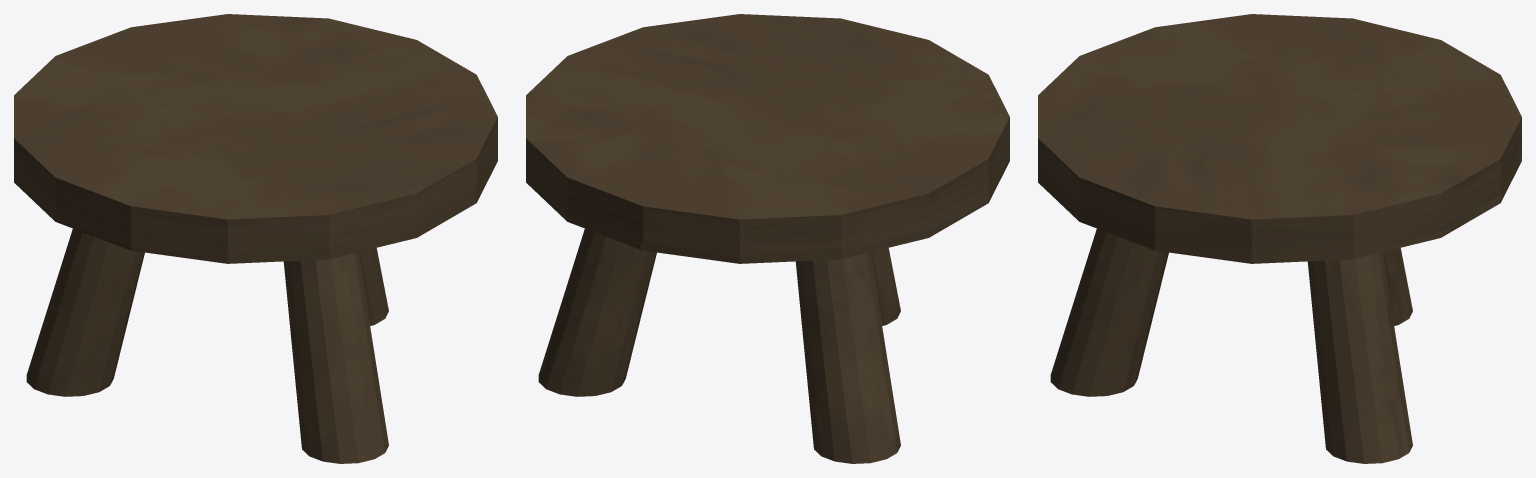
The model's file is stool.gltf.
3 views of the same model, side by side, from view 1: azimuth 30°, elevation 25°; view 2: azimuth 150°, elevation 25°; view 3: azimuth 270°, elevation 25° (orthographic).
Parts seen in each view (by area): view 1: stool; view 2: stool; view 3: stool.
Part boxes in pixels (<box>): stool: <box>14,14,497,463</box>; stool: <box>526,14,1009,463</box>; stool: <box>1038,14,1521,463</box>.
Size of the model in its own units: 0.9945 by 0.59 by 0.9891.
